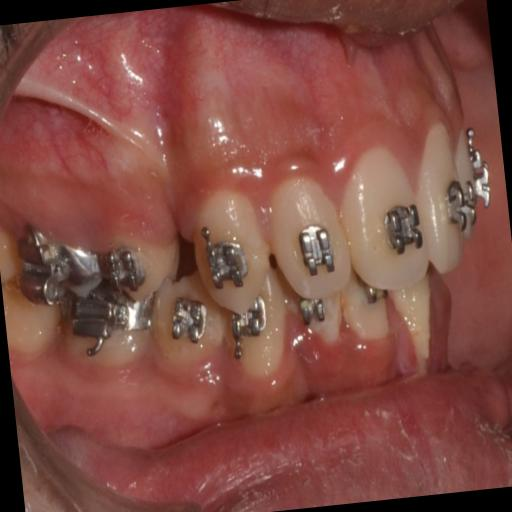correct_brace: (88, 200, 185, 302), (380, 196, 432, 276), (199, 229, 251, 295), (291, 221, 340, 286), (436, 172, 480, 232)
incorrect_brace: (272, 167, 351, 289), (98, 242, 151, 294)
